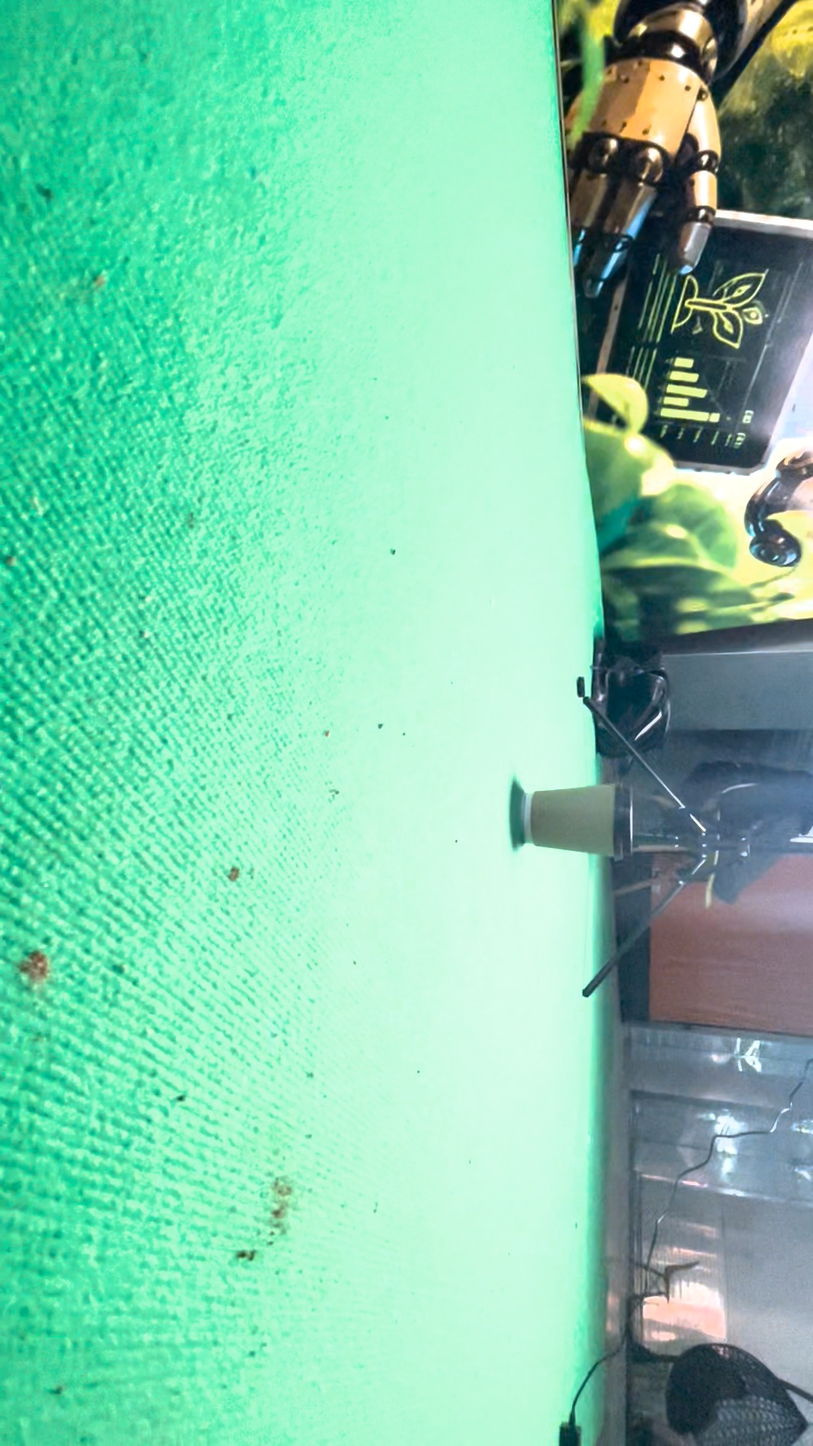cup: (431, 851, 510, 1241)
